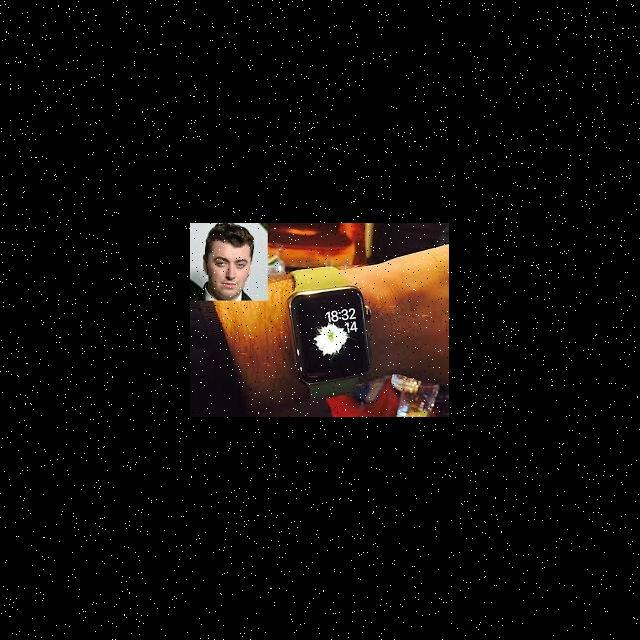watch: (266, 253, 392, 422)
